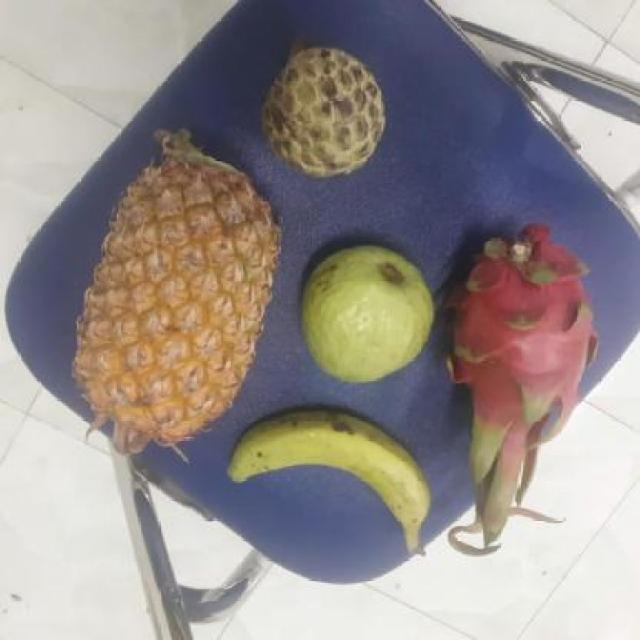banana: (226, 414, 426, 541)
dragon fruit: (436, 228, 593, 450)
guava: (293, 246, 435, 386)
pineapple: (65, 144, 274, 451)
sugar apple: (255, 47, 386, 181)
